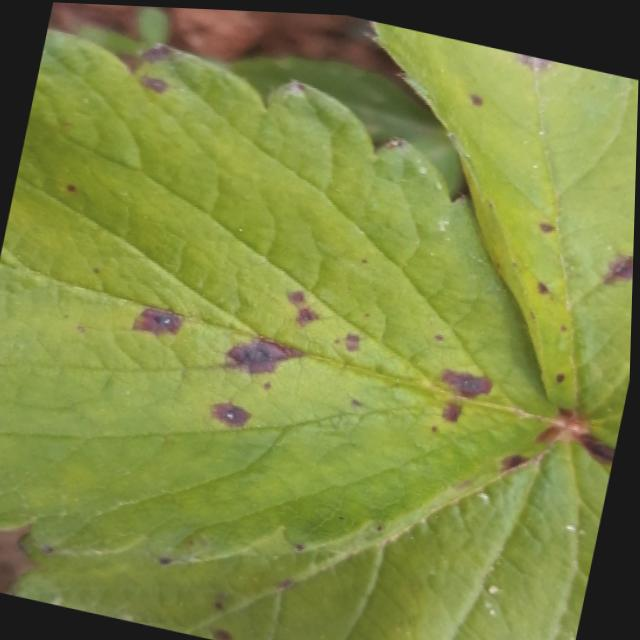Leaf Spot: (0, 28, 565, 567), (11, 426, 618, 640), (370, 17, 639, 438)
